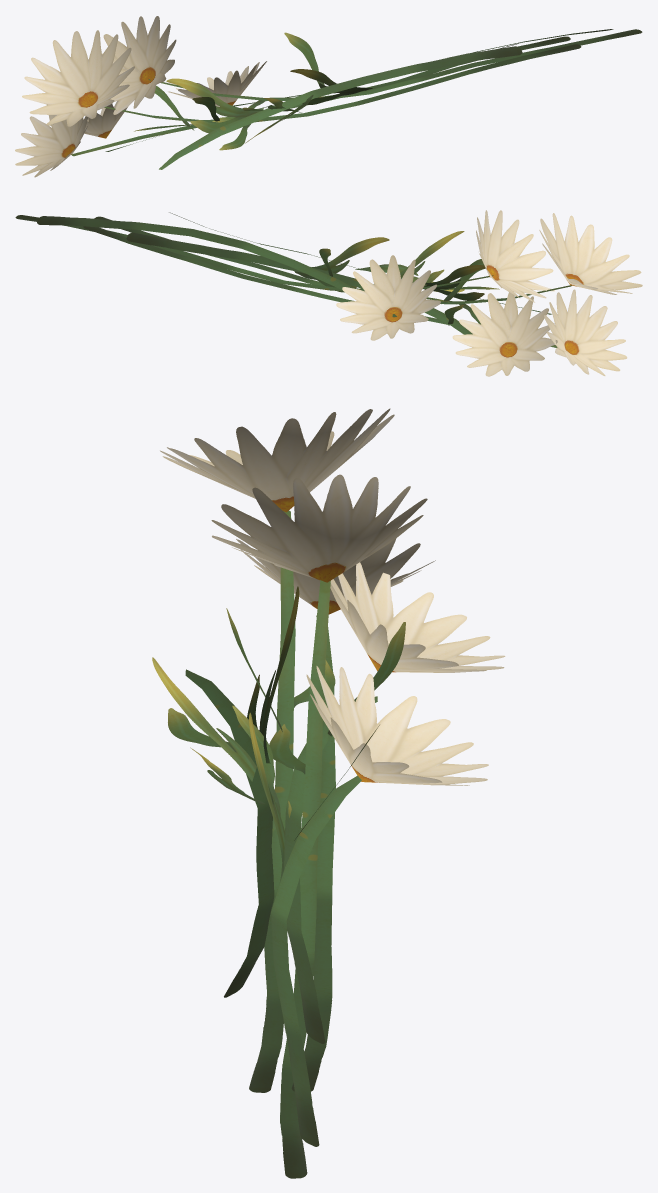
Rendered from SM_Potion_Props_Herb_04.fbx.
3 views of the same model, one above another, from view 1: azimuth 30°, elevation 25°; view 2: azimuth 150°, elevation 25°; view 3: azimuth 270°, elevation 25° (orthographic). The views are drawn at different scales.
Visible parts, largest first — view 1: SM_Potion_Props_Herb_04_LOD0; view 2: SM_Potion_Props_Herb_04_LOD0; view 3: SM_Potion_Props_Herb_04_LOD0.
Boxes of the visible parts, <box> form: SM_Potion_Props_Herb_04_LOD0: <box>15,16,642,177</box>; SM_Potion_Props_Herb_04_LOD0: <box>15,210,642,376</box>; SM_Potion_Props_Herb_04_LOD0: <box>152,408,505,1178</box>.
Size of what is drawn, in the model's own units: 78.26 by 16.74 by 19.67.
